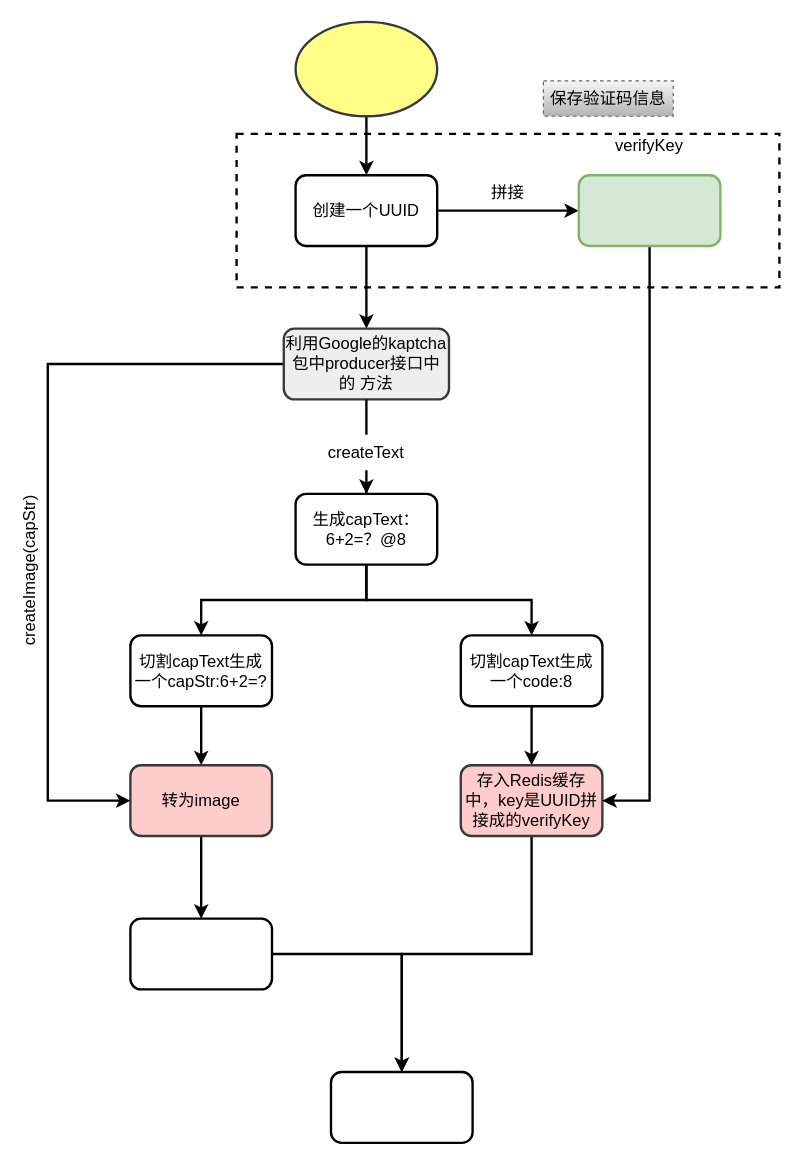
The diagram is 801 pixels wide and 1163 high, and some of its shapes have lost their labels. Here are the shapes that lost their labels. From the top down, the centre of each, then its label:
At point (366, 68): "开始".
At point (649, 210): "captcha_code:uuid".
At point (201, 953): "用字节流写回image到前端页面".
At point (401, 1106): "返回 AjaxResult类型 结果".
